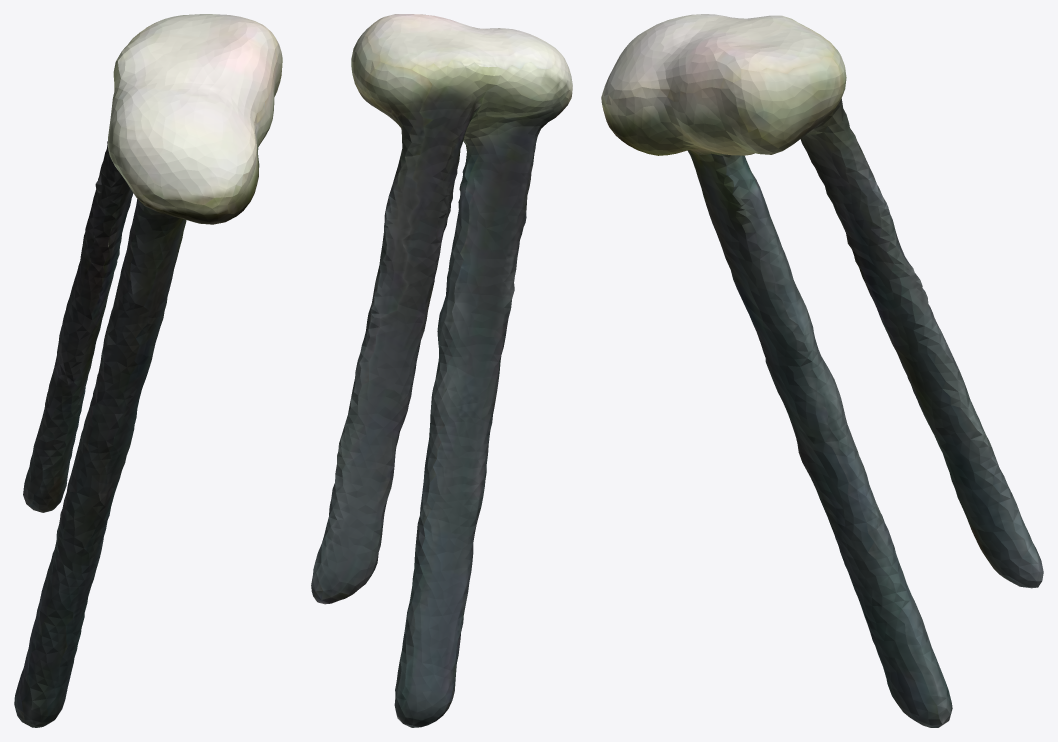
File: 28_chair.glb
The picture shows the model from 3 angles, left to right: view 1: azimuth 30°, elevation 25°; view 2: azimuth 150°, elevation 25°; view 3: azimuth 270°, elevation 25°; orthographic projection. The views are drawn at different scales.
Visible parts, largest first — view 1: 28_chair; view 2: 28_chair; view 3: 28_chair.
Part boxes in pixels (<box>): 28_chair: <box>14,14,282,727</box>; 28_chair: <box>311,14,572,727</box>; 28_chair: <box>601,14,1043,727</box>.
Bounding box in the file's own units: 0.2583 × 0.8997 × 0.4955.
1 material, 1 textured.
